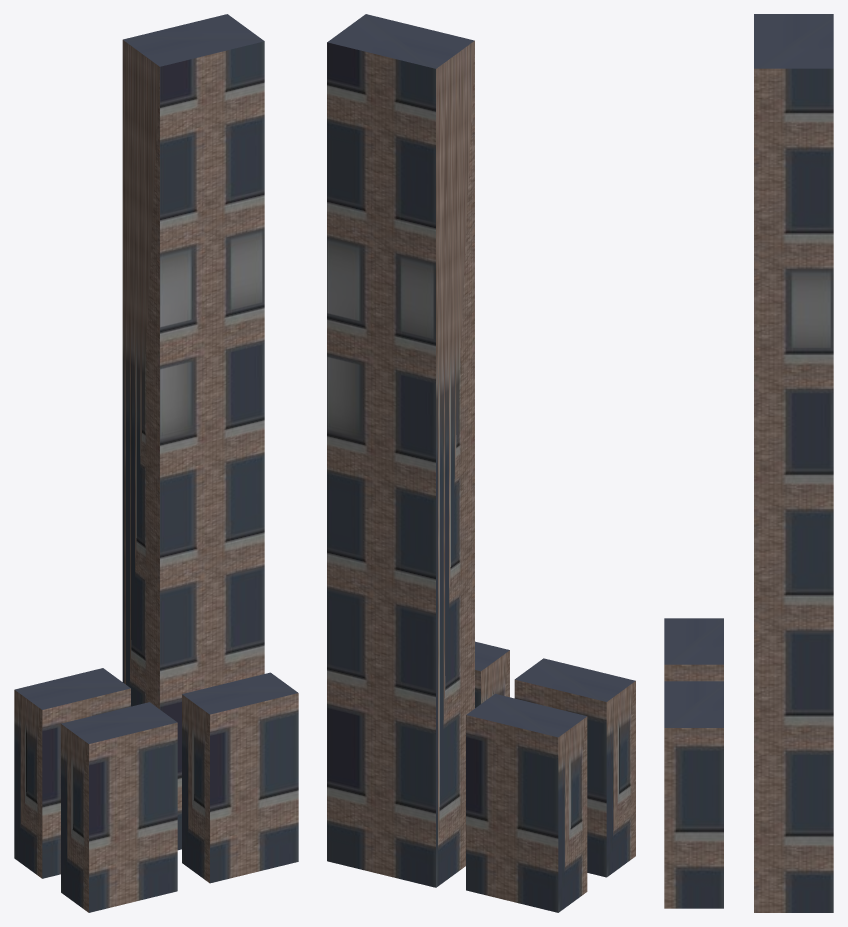
The model's file is block_34.obj.
3 renders of one model, left to right at view 1: azimuth 30°, elevation 25°; view 2: azimuth 150°, elevation 25°; view 3: azimuth 270°, elevation 25°, orthographic. The views are drawn at different scales.
Visible parts, largest first — view 1: b2, b3, b1, b0; view 2: b2, b0, b1, b3; view 3: b2, b3, b1.
Part boxes in pixels (<box>): b2: <box>122,14,264,850</box>; b3: <box>182,672,298,883</box>; b1: <box>61,702,177,912</box>; b0: <box>14,668,130,878</box>; b2: <box>327,14,474,887</box>; b0: <box>466,693,587,912</box>; b1: <box>514,658,635,877</box>; b3: <box>475,641,509,707</box>; b2: <box>754,14,833,912</box>; b3: <box>664,681,723,908</box>; b1: <box>664,618,723,681</box>.
Size of the model in its own units: 4.05 by 14 by 2.55.
